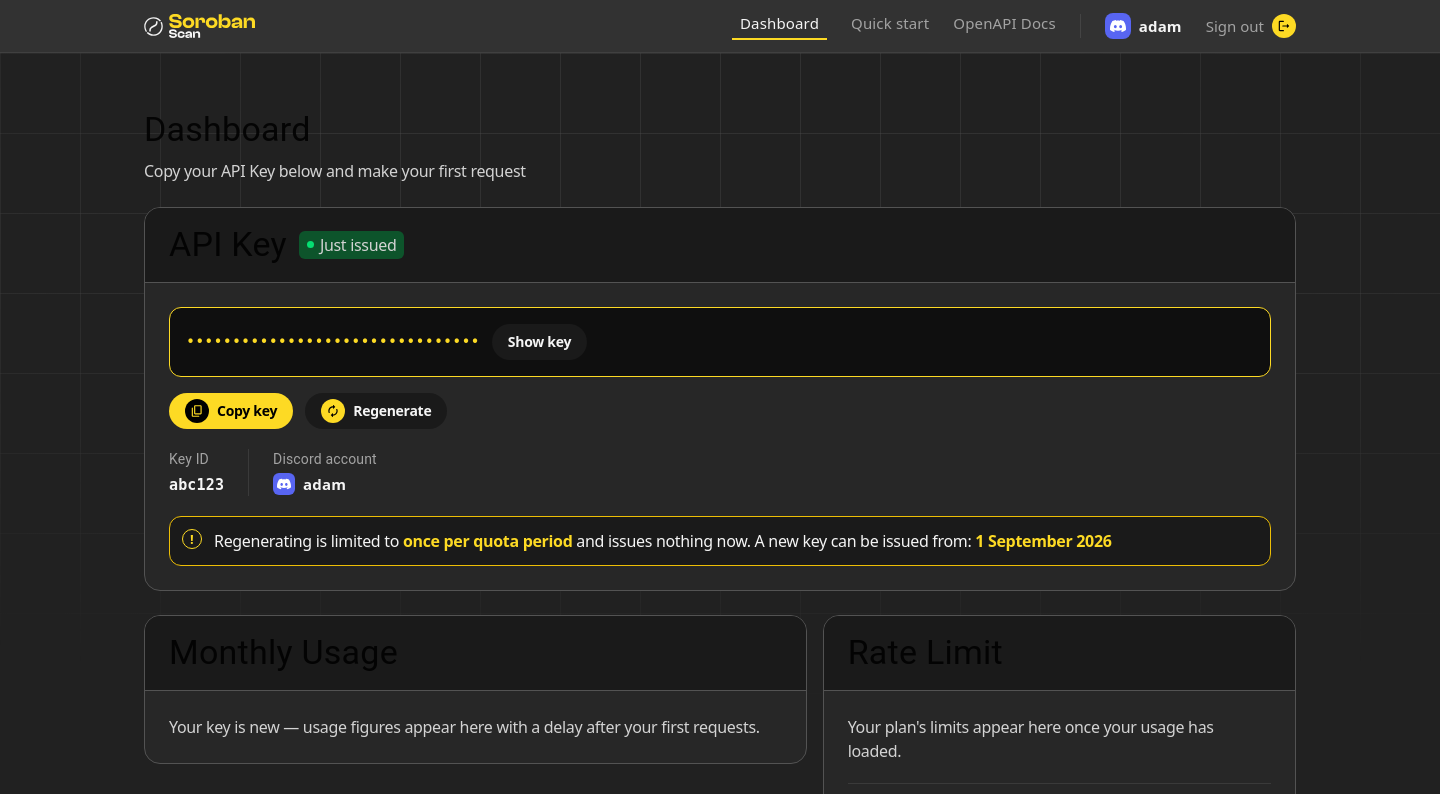
Test: replace my key › opens as a modal dialog named for the action, with the frame verb on the confirm
Click the button with test id "replace-key-open".
click(376, 411)  # box 305,393 -> 447,429
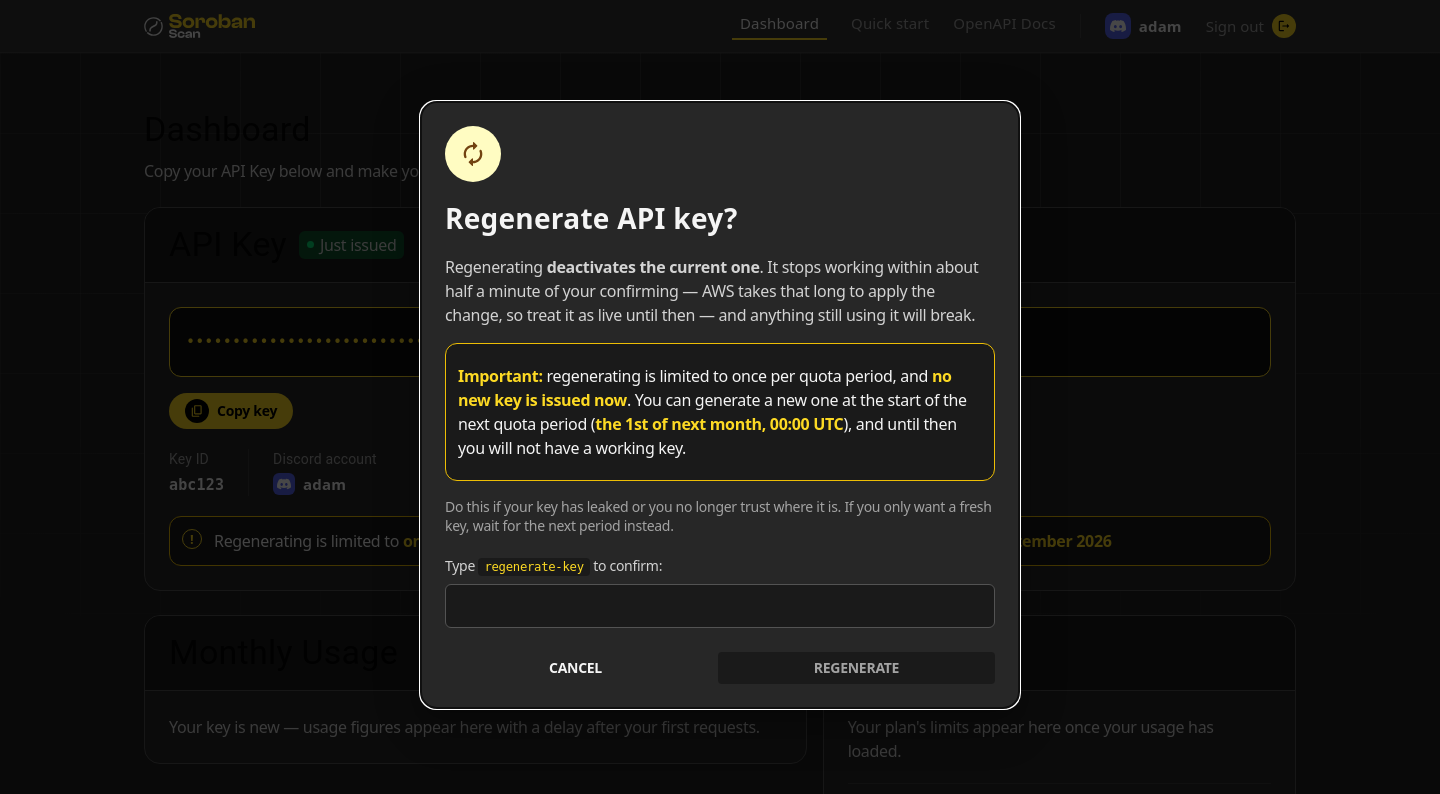
Result: the button with test id "replace-key-confirm" reads "Regenerate" at 718,652 -> 995,684
